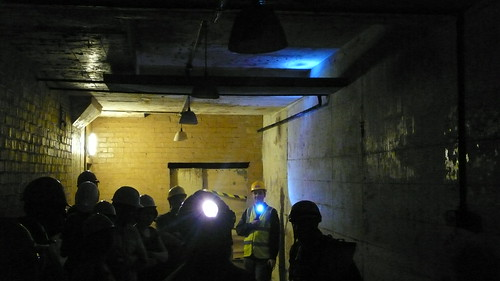person hardhat: (2, 172, 79, 280), (176, 194, 252, 281), (286, 202, 365, 281), (240, 181, 283, 281), (112, 186, 147, 271), (159, 185, 196, 260), (139, 192, 172, 265), (85, 215, 115, 281), (77, 182, 102, 247), (77, 167, 105, 204), (93, 200, 128, 229)
